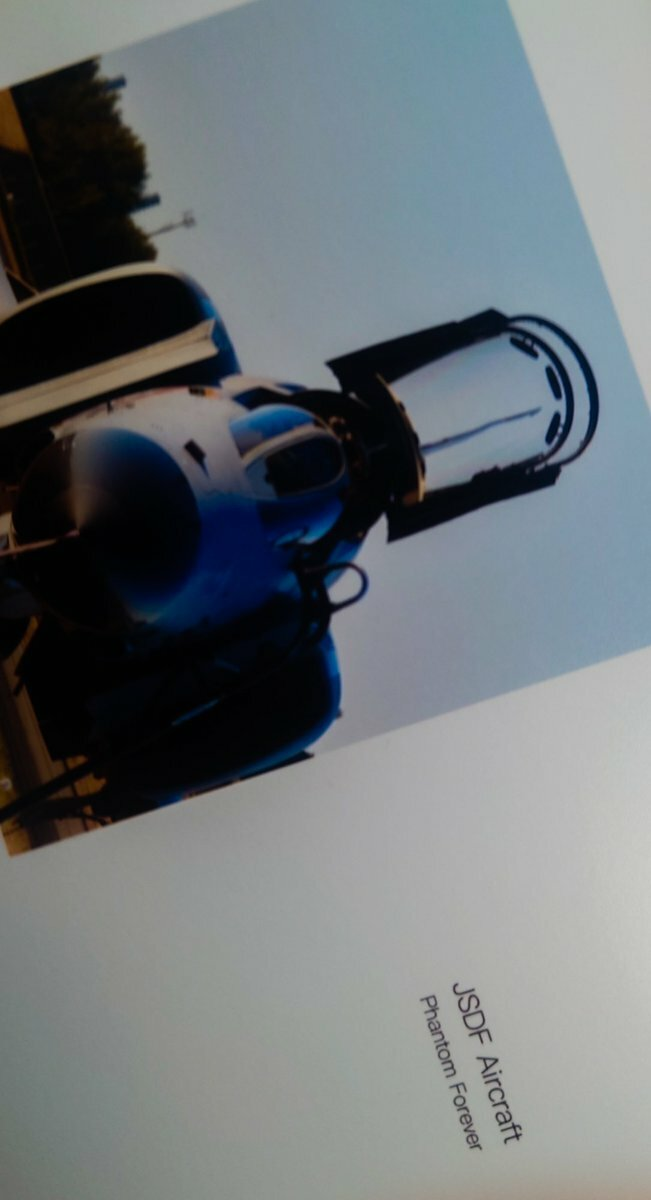F4: (1, 260, 600, 832)
